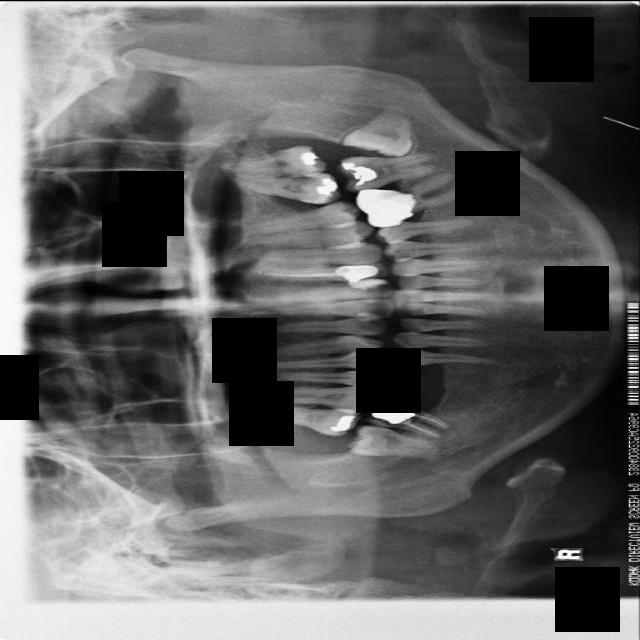52: (335, 145, 389, 198), (355, 188, 417, 227), (363, 393, 420, 435), (327, 381, 384, 416), (289, 172, 343, 203), (280, 144, 328, 175), (312, 405, 358, 437), (334, 277, 395, 301), (334, 259, 389, 281), (346, 295, 395, 319), (344, 315, 389, 334)
73: (396, 402, 450, 441), (259, 266, 350, 281), (614, 10, 622, 18)
BioHorizons Implant: (235, 171, 340, 205)
BioLife Implant: (221, 144, 326, 174)
Biomet 3i Implant: (340, 99, 424, 179)
Blue Sky Bio Implant: (338, 151, 439, 191)
Caries: (251, 403, 358, 436)
Implant: (367, 395, 451, 441)
Keystone Dental Implant: (347, 423, 441, 461)
